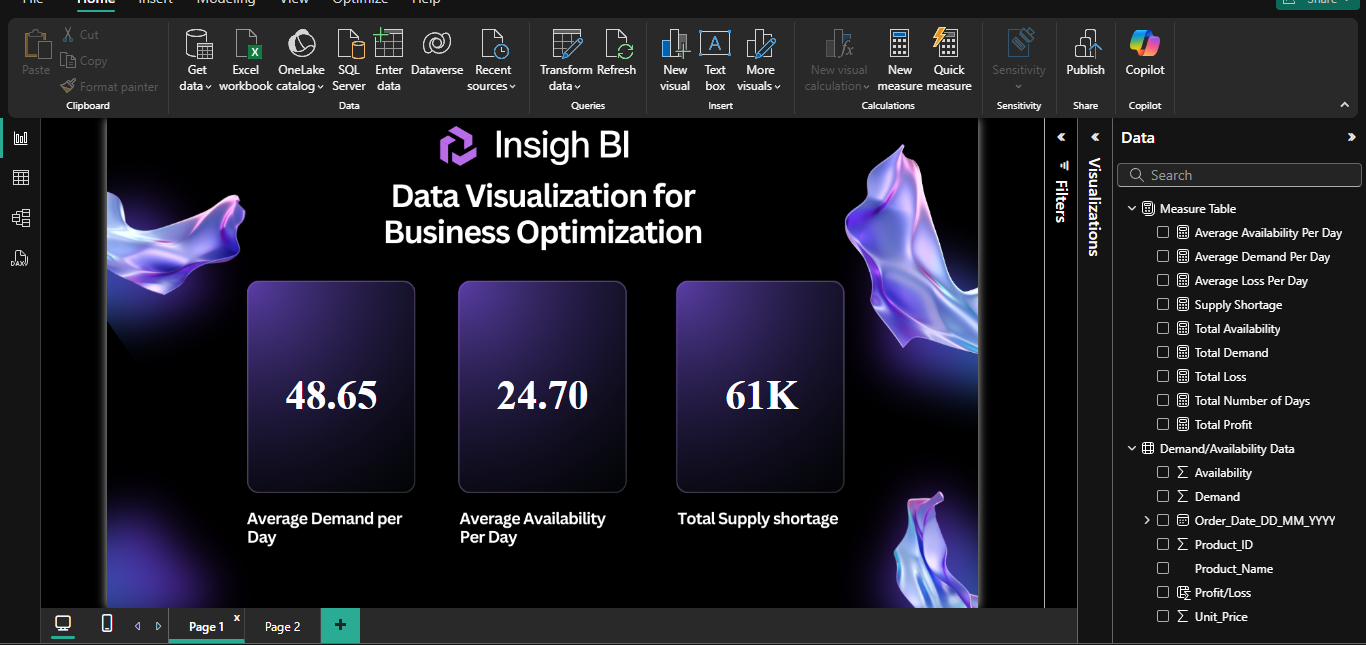

This screenshot's page, from the dashboard's own definition file:
{"tool":"powerbi","page":{"name":"Page 1","canvas":[1280,720],"ordinal":0},"visuals":[{"type":"card","fields":{"Values":["Measure Table.Average Demand Per Day"]},"box":[207.2,257.1,245.4,289.5],"z":0},{"type":"card","fields":{"Values":["Measure Table.Average Availability Per Day"]},"box":[517.2,257.1,245.4,289.5],"z":1000},{"type":"card","fields":{"Values":["Measure Table.Supply Shortage"]},"box":[839,257.1,245.4,289.5],"z":2000}]}

Visuals, with their boxes on the page's 1280x720 design canvas (x1, y1, x2, y2). These are canvas units, not pixel positions in the 1366x645 screenshot, which may show the page scaled, cropped or inside an application window:
card - Measure Table.Average Demand Per Day: [x1=207, y1=257, x2=453, y2=547]
card - Measure Table.Average Availability Per Day: [x1=517, y1=257, x2=763, y2=547]
card - Measure Table.Supply Shortage: [x1=839, y1=257, x2=1084, y2=547]
